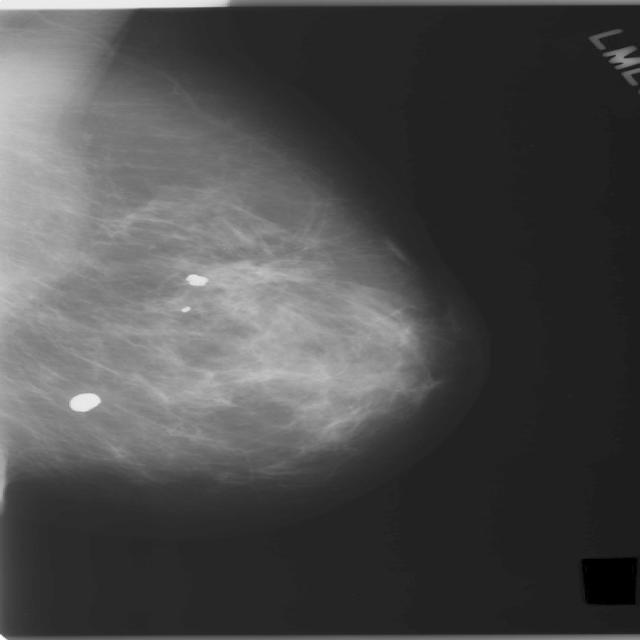tumour: (201, 260, 301, 289)
